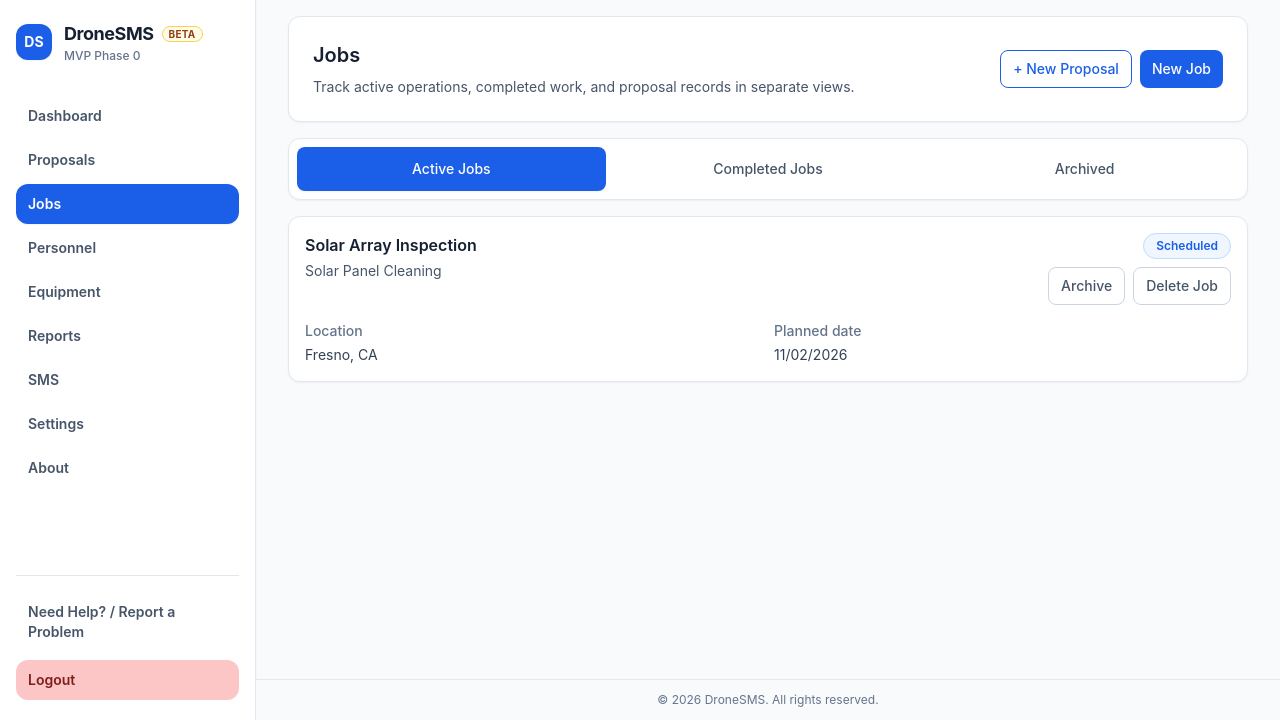
Scenario: switching between Jobs and Proposals › keeps each page identity when switching through the sidebar
This screenshot has width=1280, height=720.
Expected: the heading "Solar Array Inspection" is shown, [305, 235, 477, 255]
Click the link "Proposals" at (62, 160), box [28, 151, 95, 168]
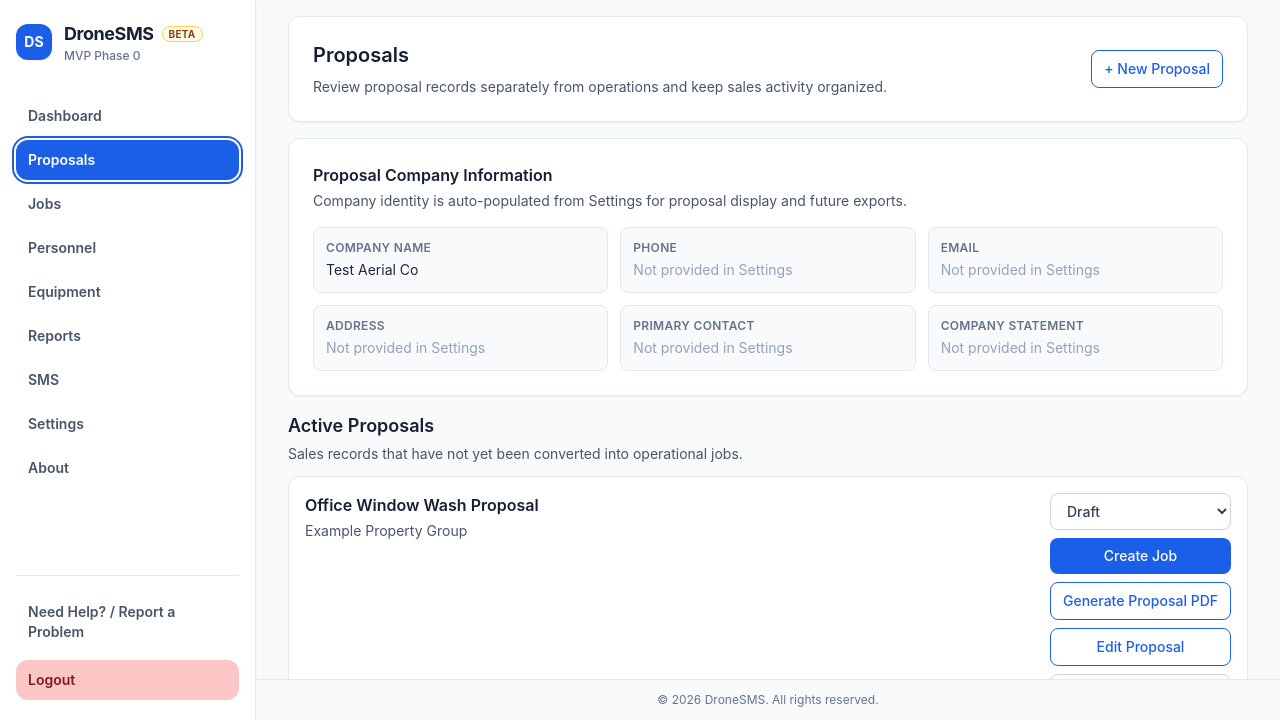
Expected: the heading "Proposals" is shown, [313, 43, 409, 67]
Expected: the heading "Office Window Wash Proposal" is shown, [305, 493, 539, 517]
Expected: the link "Solar Array Inspection" is gone
Click the link "Jobs" at (45, 204), box [28, 195, 61, 212]
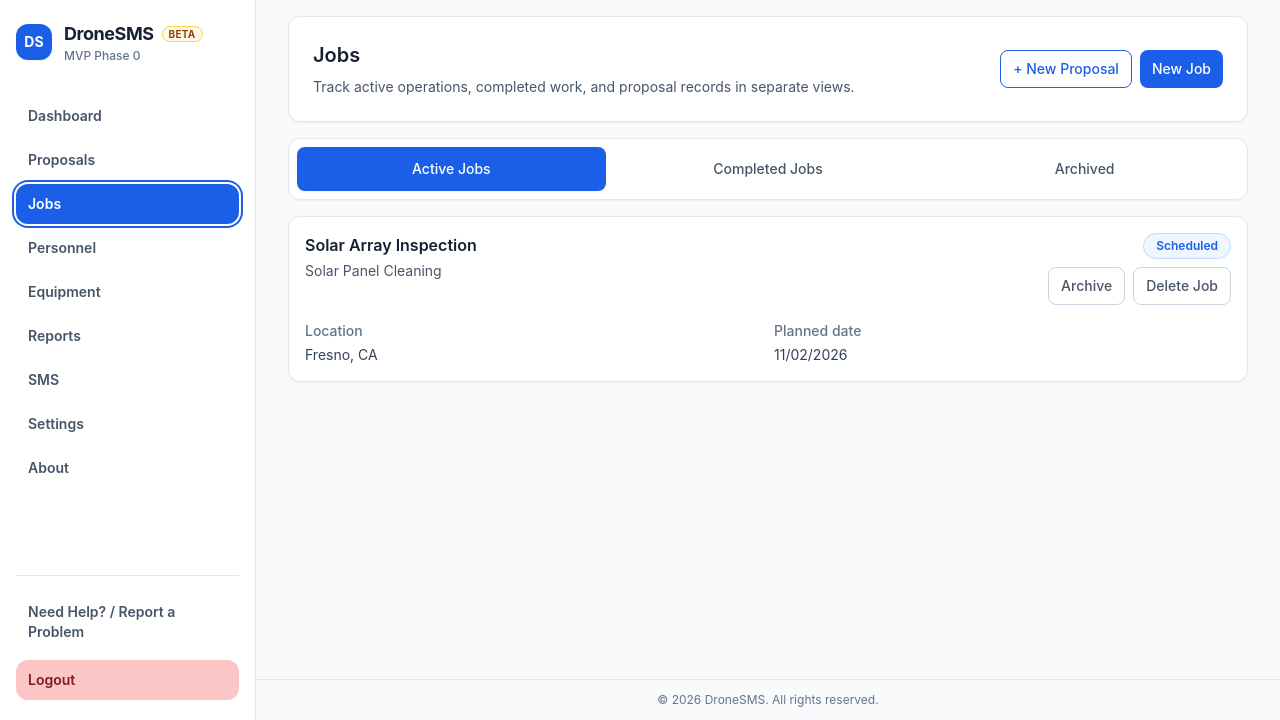
Expected: the heading "Jobs" is shown, [313, 43, 360, 67]
Expected: the heading "Solar Array Inspection" is shown, [305, 235, 477, 255]
Expected: the heading "Office Window Wash Proposal" is gone
